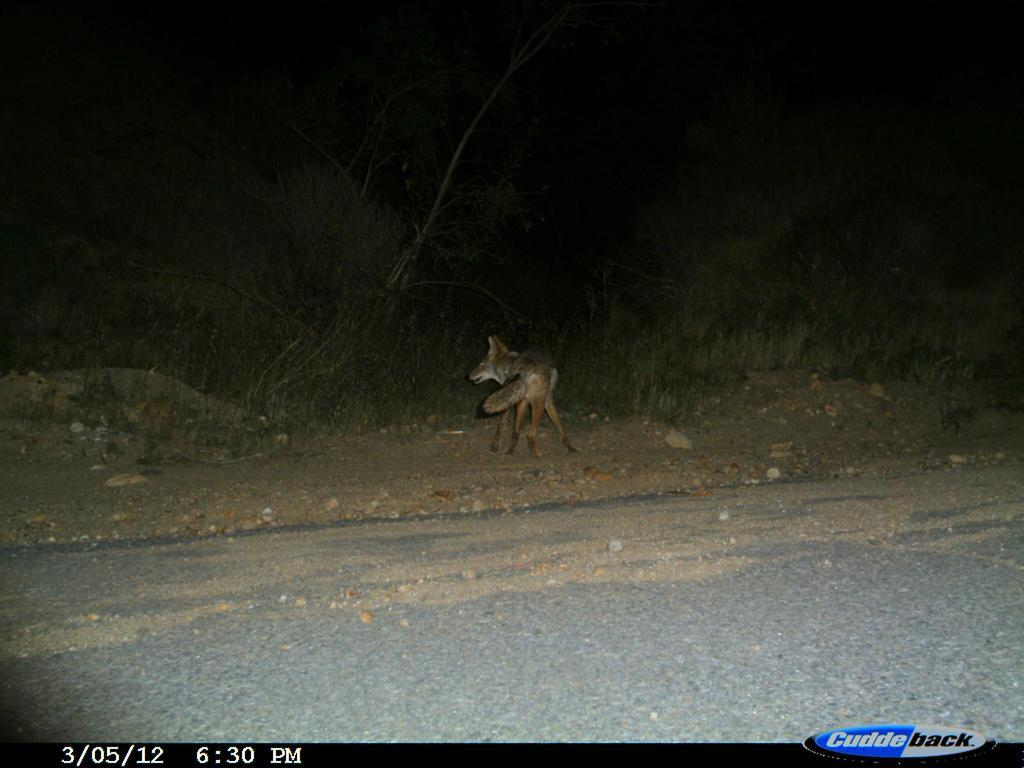coyote: (470, 332, 583, 465)
